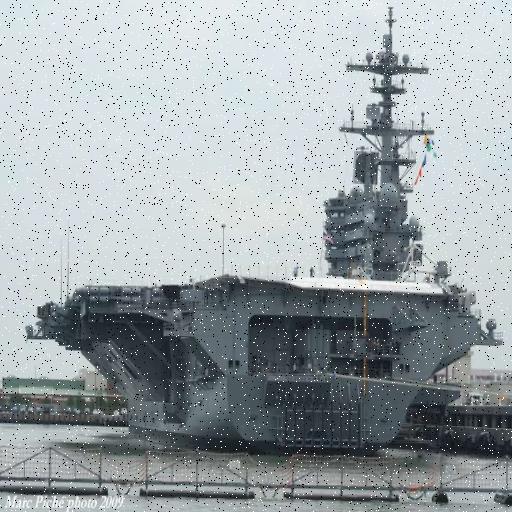Portanaves: (25, 4, 508, 470)
